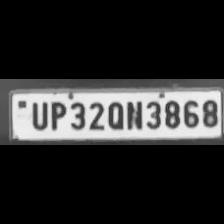2: (86, 99, 104, 131)
3: (66, 99, 86, 131), (144, 98, 162, 130)
6: (180, 97, 200, 129)
8: (199, 96, 219, 128), (162, 97, 180, 128)
N: (125, 98, 142, 130)
P: (47, 99, 66, 131)
Q: (104, 98, 124, 130)
U: (28, 98, 48, 130)
